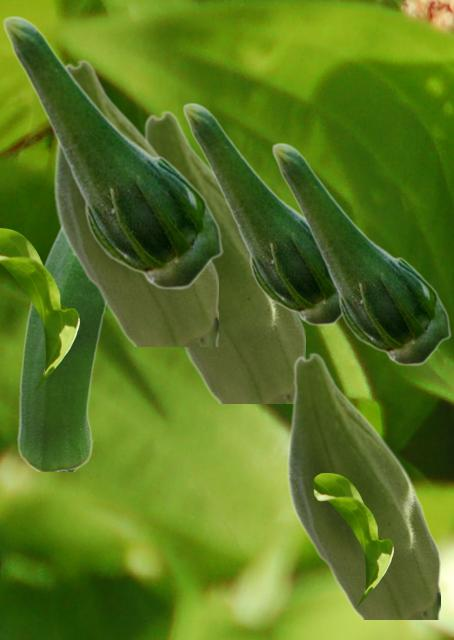okra: (2, 15, 222, 289), (143, 110, 304, 402), (53, 59, 217, 345), (286, 352, 439, 618), (271, 142, 450, 365), (182, 102, 341, 325), (16, 228, 107, 470)
